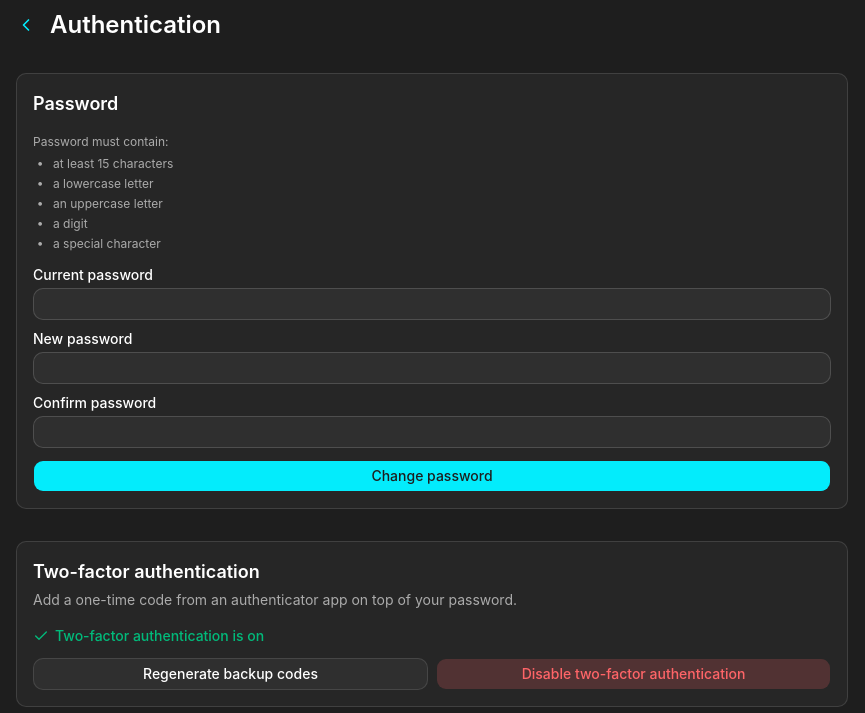
Test: SettingsAuthenticationView — two-factor › regenerates backup codes and reveals the new set
Click the button "Regenerate backup codes" at (230, 674), box 33,658 -> 428,690
(page scrolled)
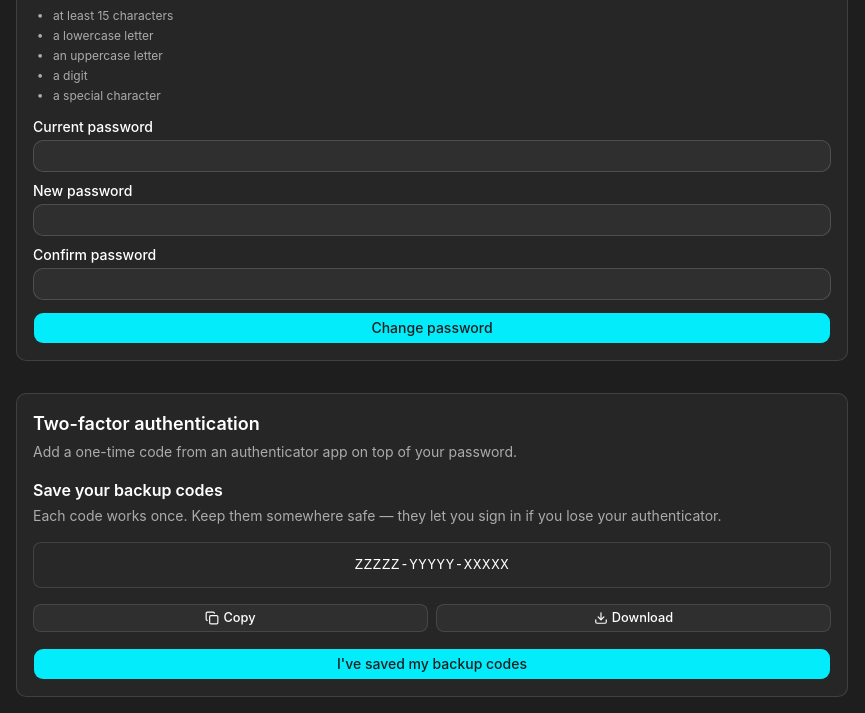
expect the list item "ZZZZZ-YYYYY-XXXXX" is shown: met, box 355,557 -> 509,573
